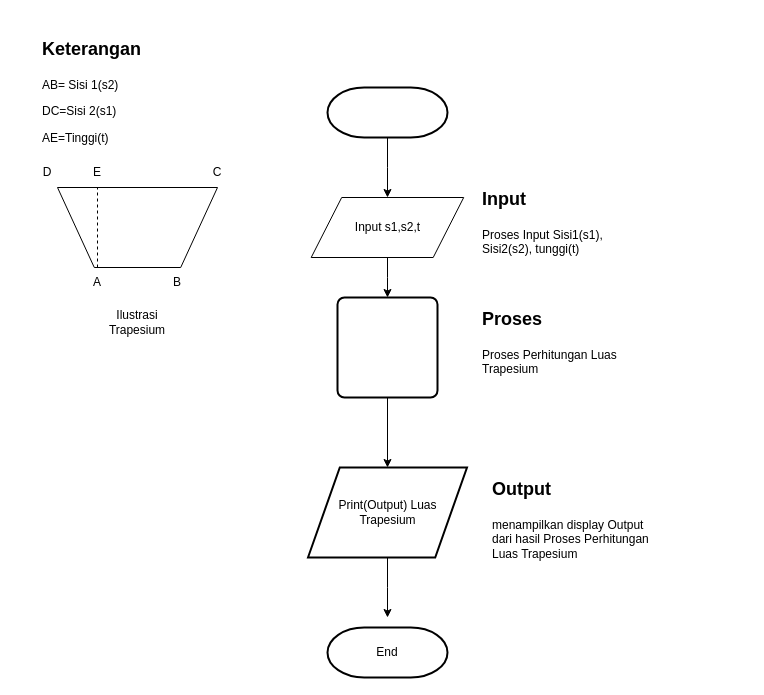
The diagram is 764 pixels wide and 695 high, and some of its shapes have lost their labels. The centre of each missing label's shape, as x and y in pixels:
Luas Trapesium ((s1+s2)*t)/2: pixel 387 347
Start: pixel 387 112
